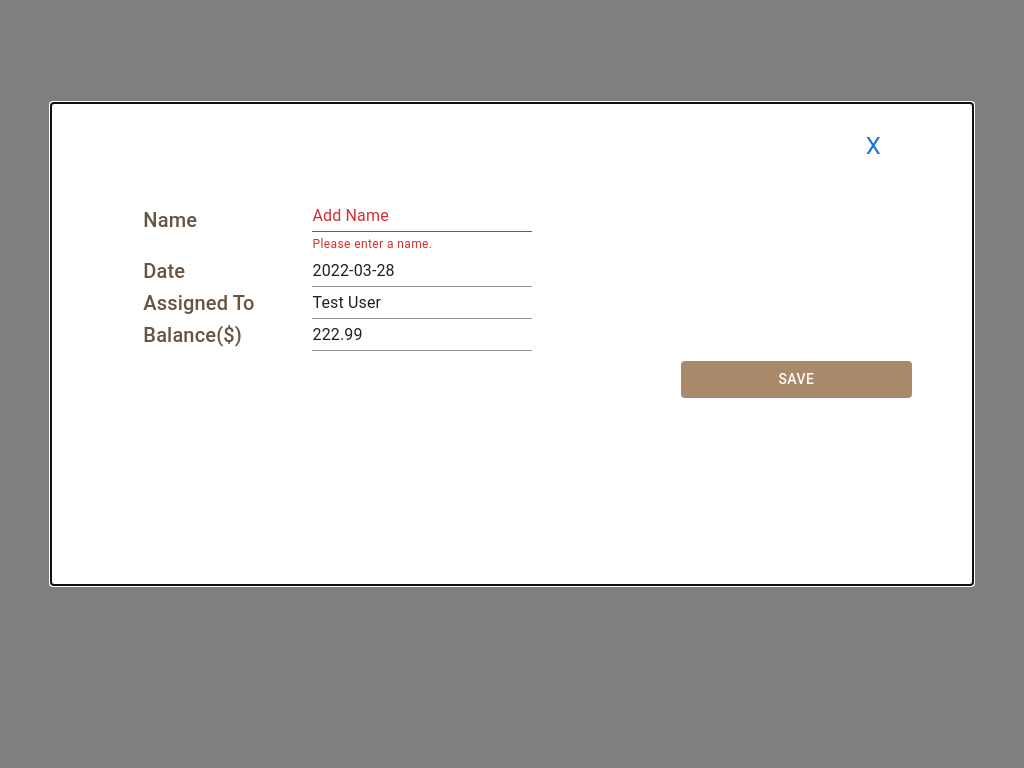
Test: Testing <ExpensesOverlay /> Component › should have invalid date error
Replace the text in the field with id "expenses-overlay-date-field" with "invalid" at (422, 271), box [312,255,532,287]
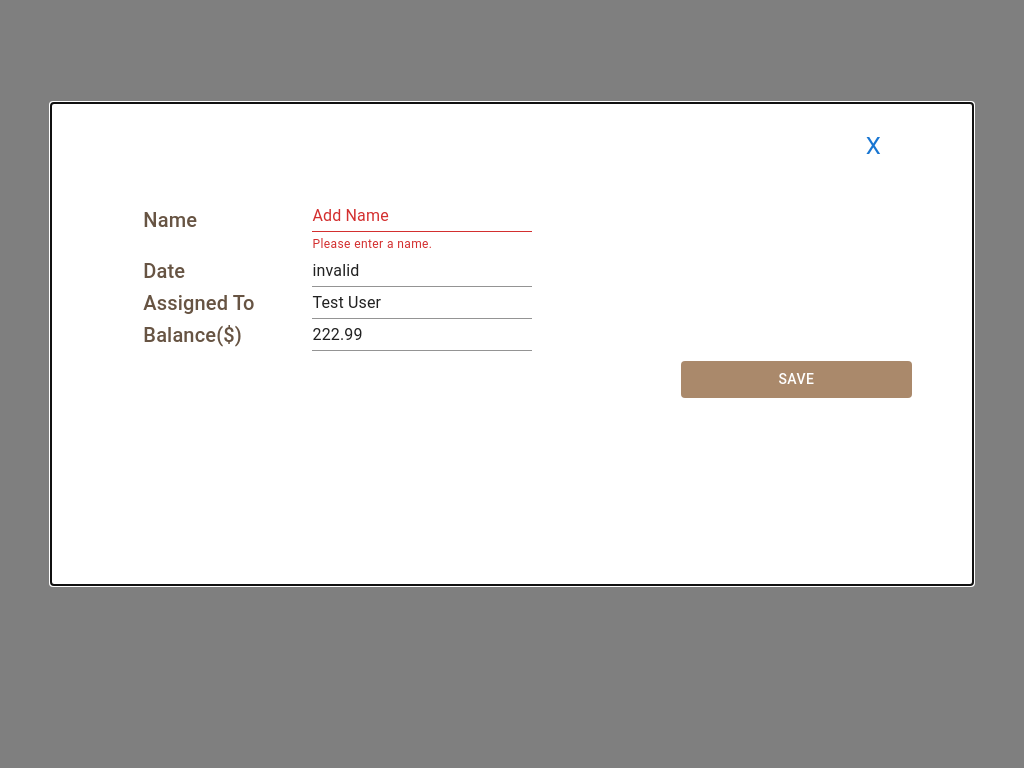
Click the button with id "expense-overlay-save-button" at (796, 379), box [681,361,912,398]
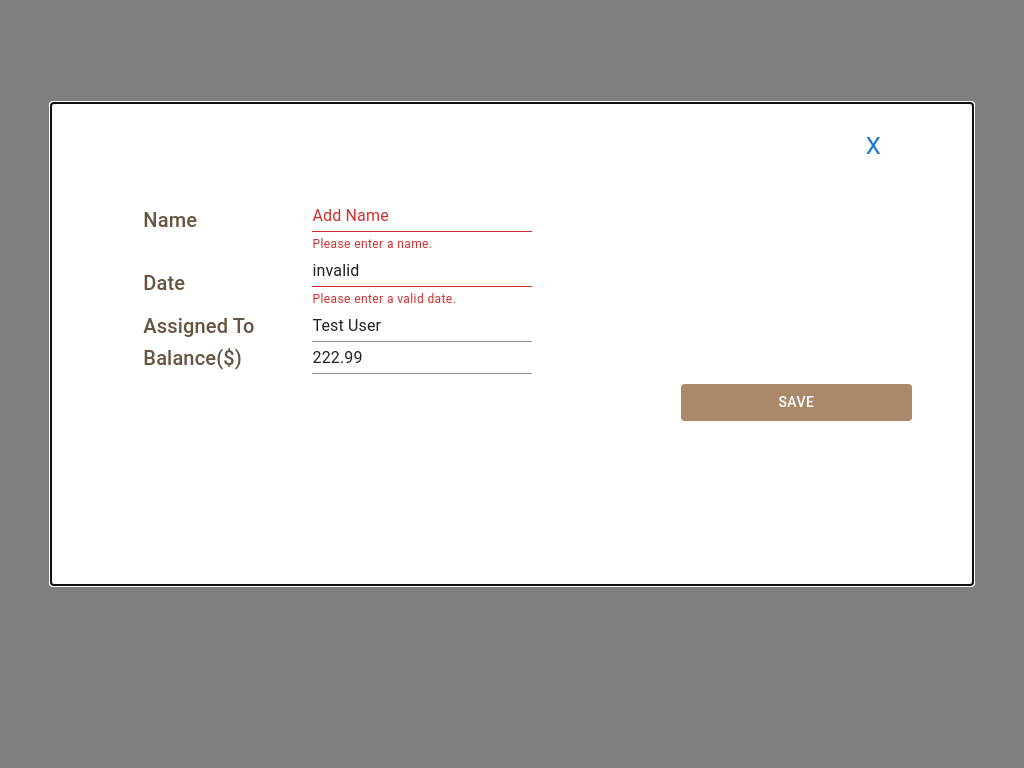
Check: the text with id "expenses-overlay-date-field-helper-text" reads "Please enter a valid date.", box [312,292,456,306]
